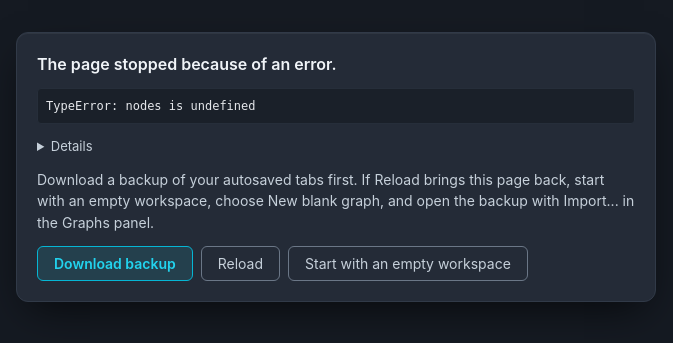
Test case: AppErrorBoundary › says so when there is nothing to back up
Click the button "Download backup" at coordinates (115, 263), box [37,246,193,281]
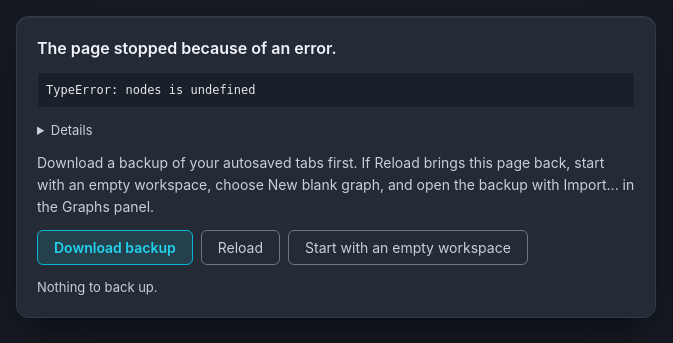
Check: the text "Nothing to back up." is shown, box [37,278,158,294]
